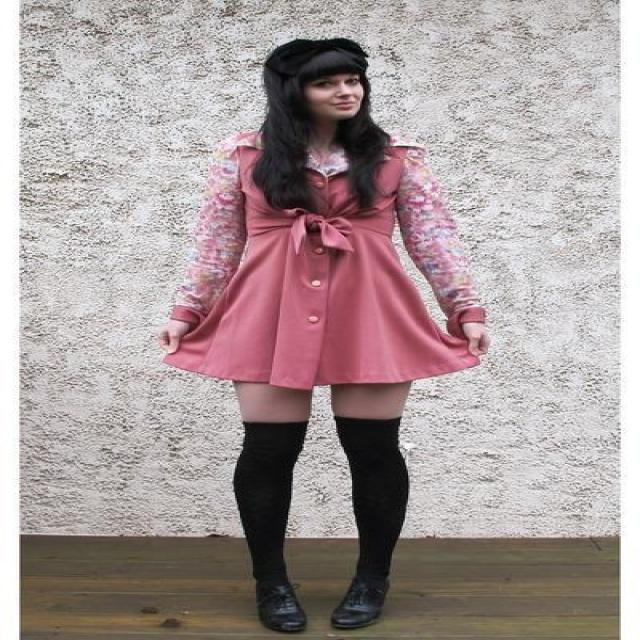dress: (144, 131, 506, 387)
hat: (266, 38, 370, 81)
shoe: (255, 572, 388, 634)
